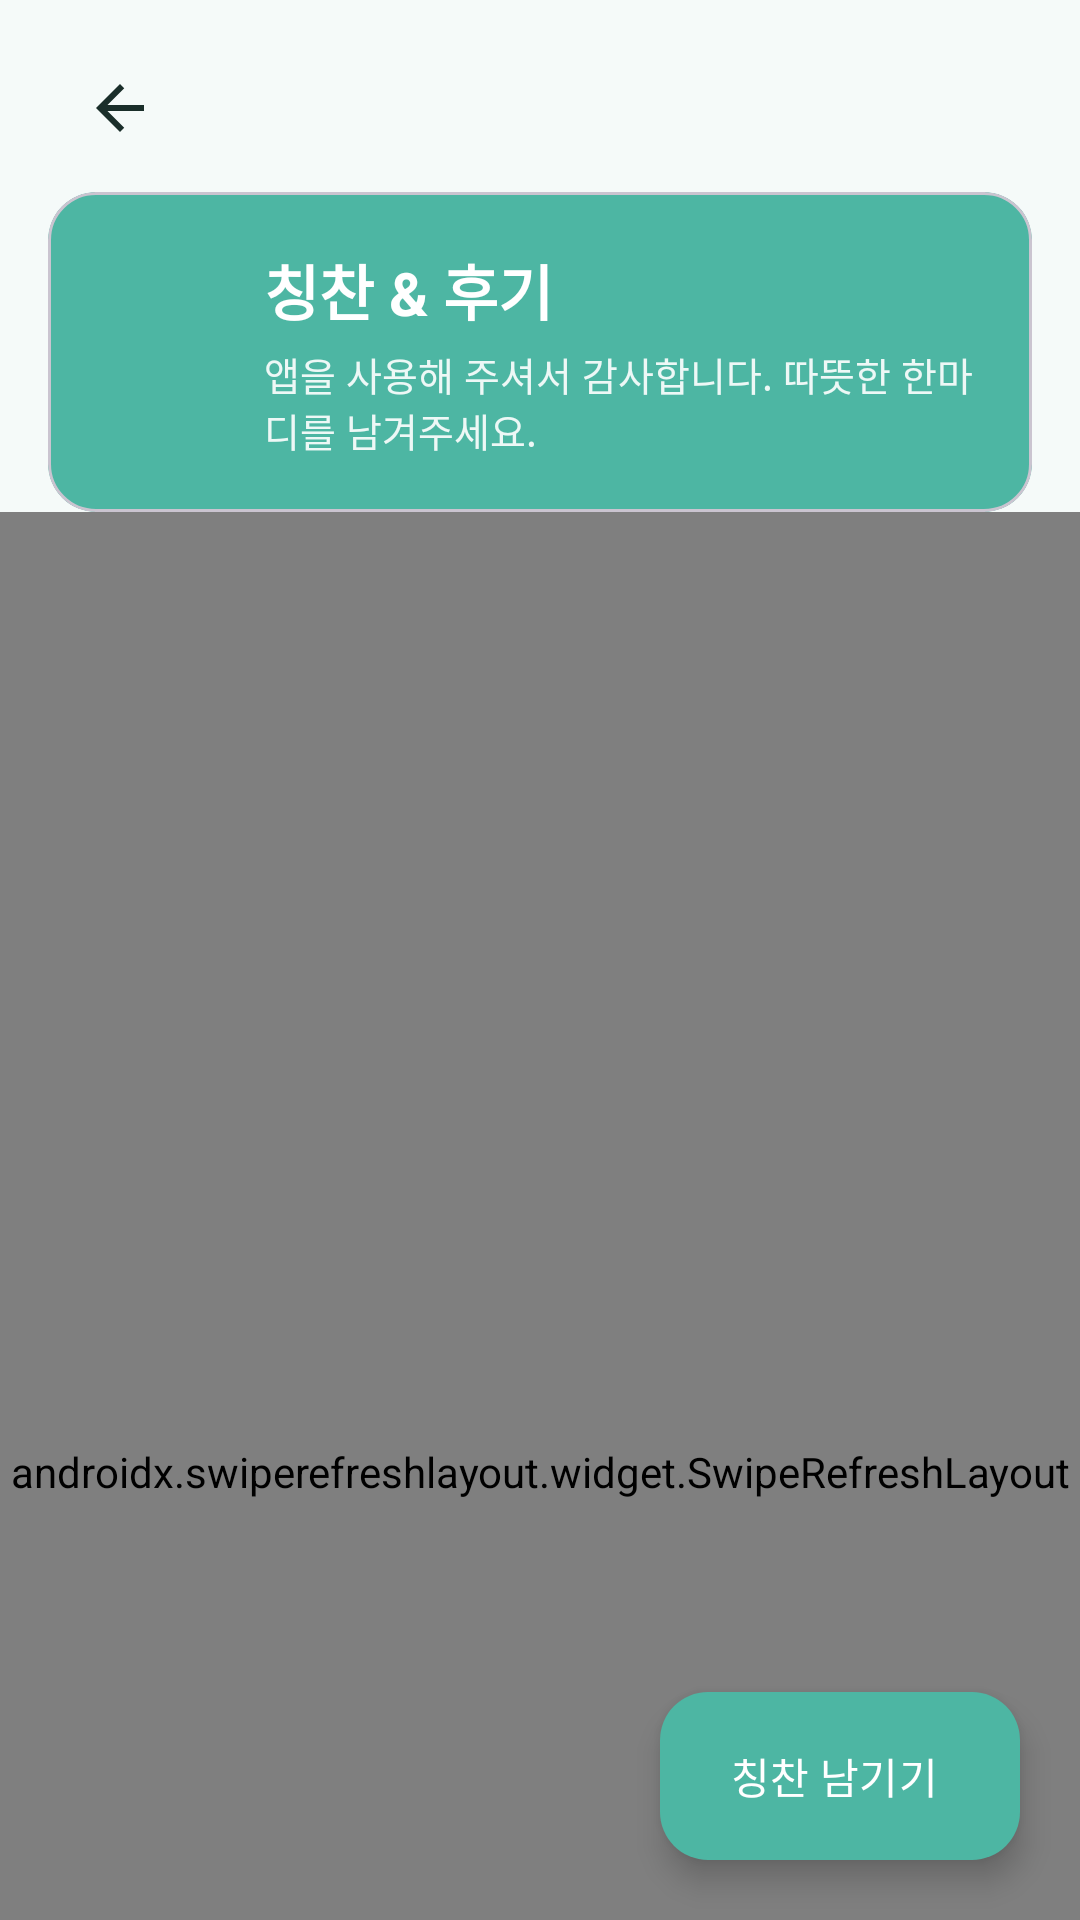

Screen size 1080px x 1920px. Icon name, then its center in pixels as point (x, y):
뒤로가기: point (120, 108)
